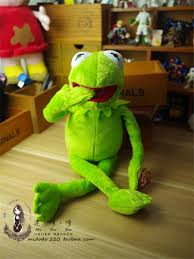kermit: (69, 49, 126, 109)
